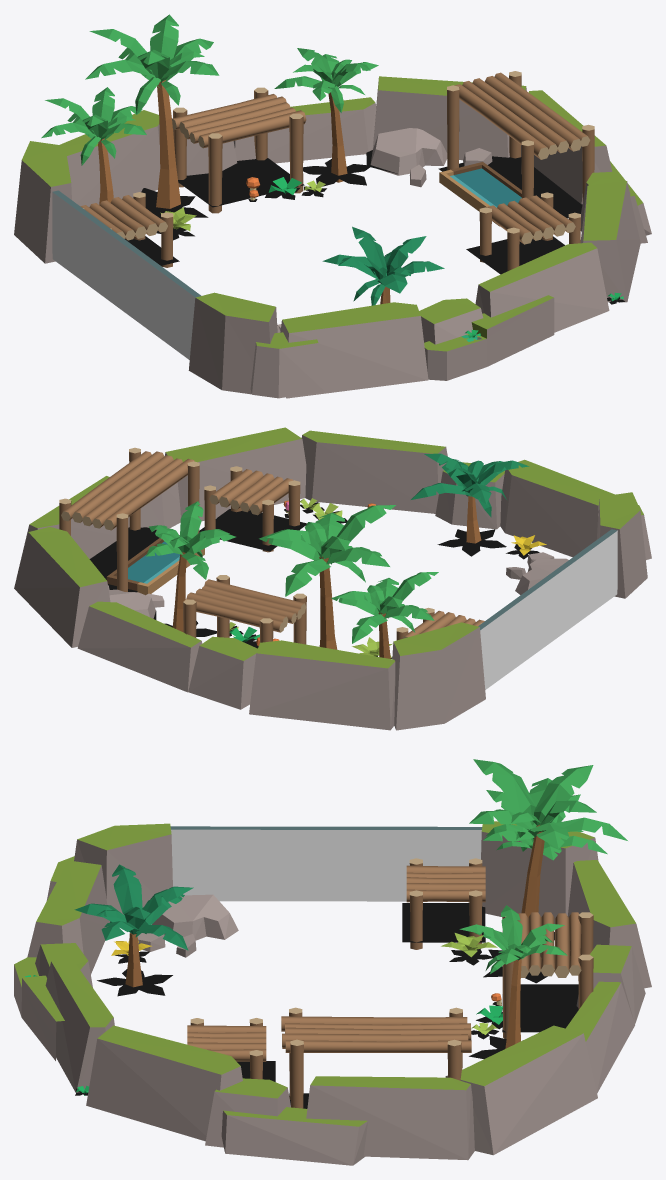
Rendered from xweilan_1007_2.FBX.
3 views of the same model, one above another, from view 1: azimuth 30°, elevation 25°; view 2: azimuth 150°, elevation 25°; view 3: azimuth 270°, elevation 25° (orthographic). The views are drawn at different scales.
Parts seen in each view (by area): view 1: xweilan_1007_2; view 2: xweilan_1007_2; view 3: xweilan_1007_2.
Part boxes in pixels (x1,y1,x2,y2): xweilan_1007_2: (14,14,651,398); xweilan_1007_2: (14,427,651,730); xweilan_1007_2: (14,759,651,1165).
Bounding box in the file's own units: 4547 × 1556 × 4581.
